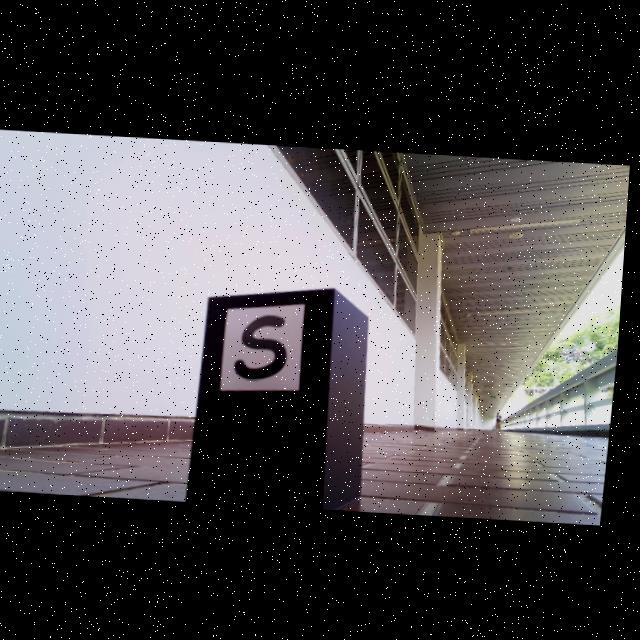S: (238, 313, 293, 379)
